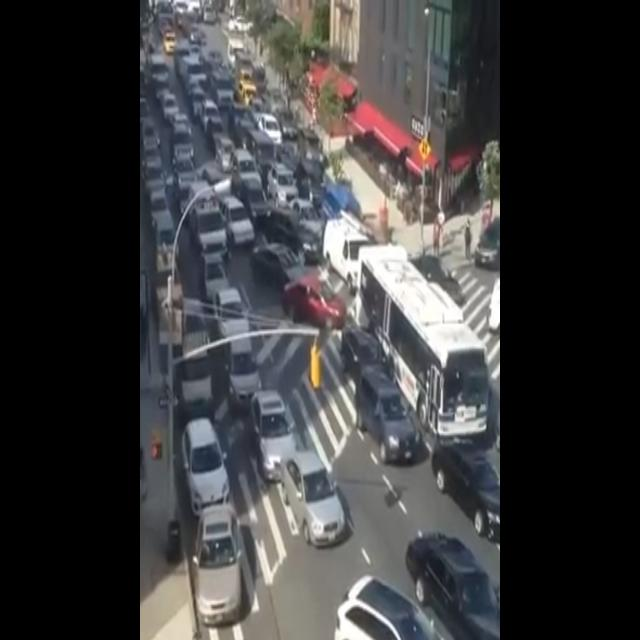Ambulance: (187, 173, 230, 264)
